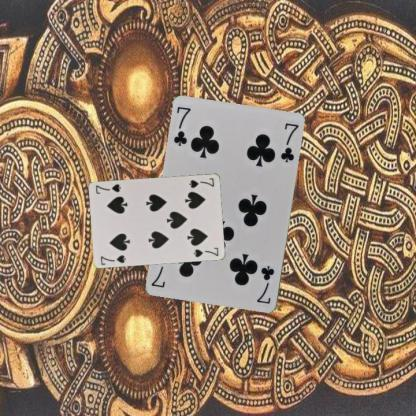7c: (254, 263, 276, 306), (171, 104, 192, 148)
7s: (186, 175, 216, 189), (98, 252, 127, 266)
